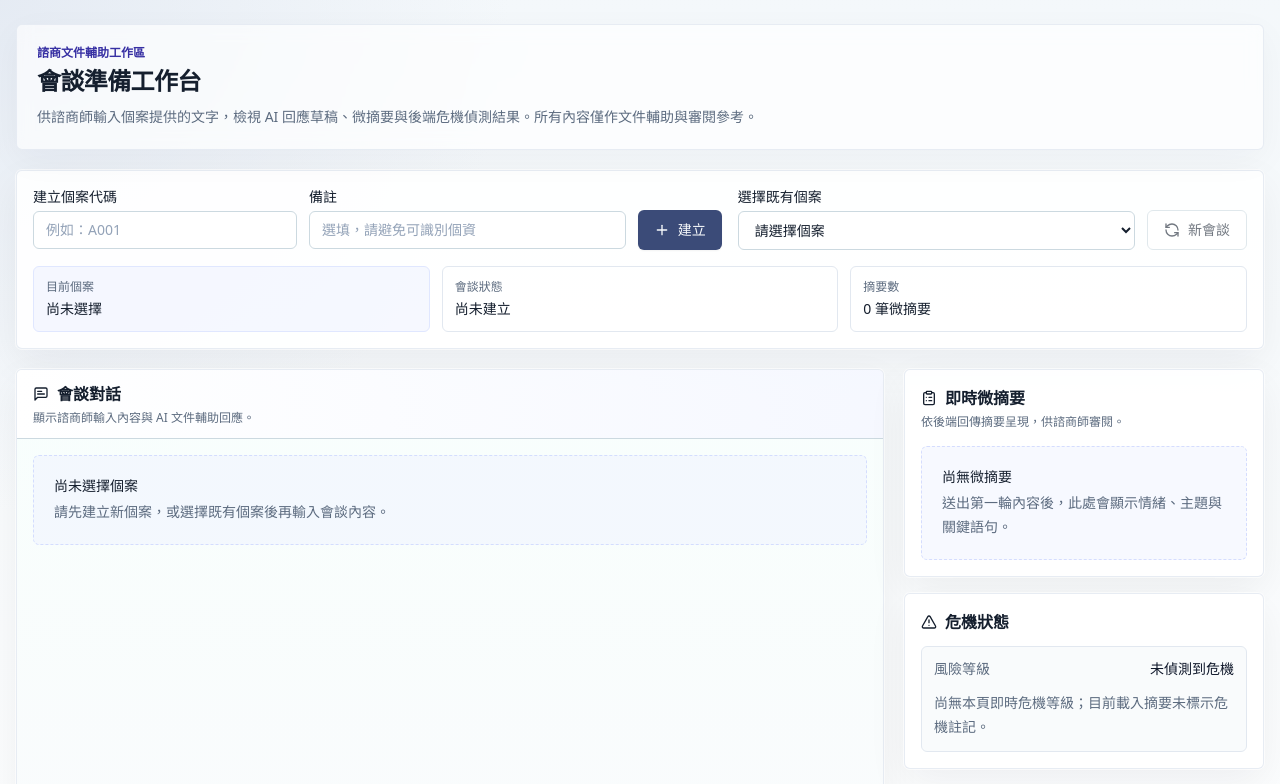
Test: ConversationPage durable session creation behavior › create-case partial session failure keeps the new case without a fake local session
This screenshot has width=1280, height=784.
Type "NEW_CASE_WITHOUT_SESSION" into the field labelled "建立個案代碼" at point(165, 230), box [33,211,297,249]
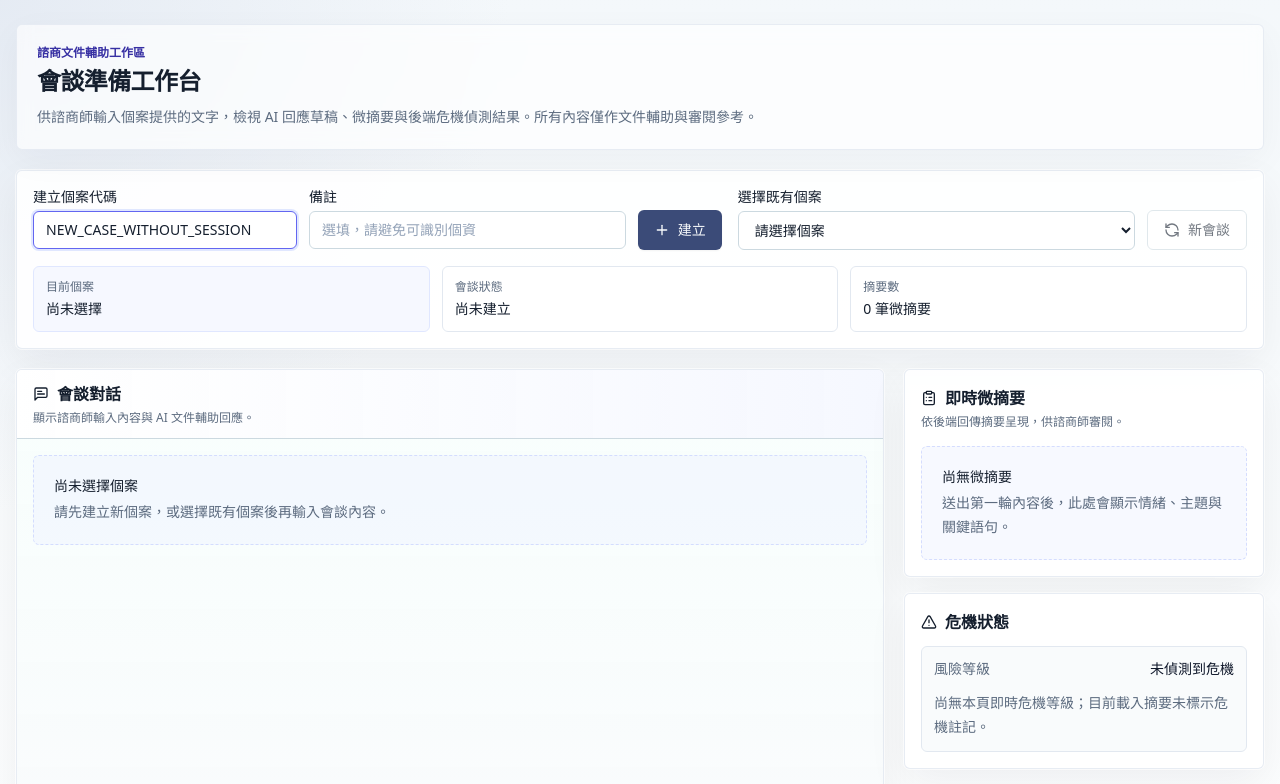
Submit the form, box [33,187,722,250]
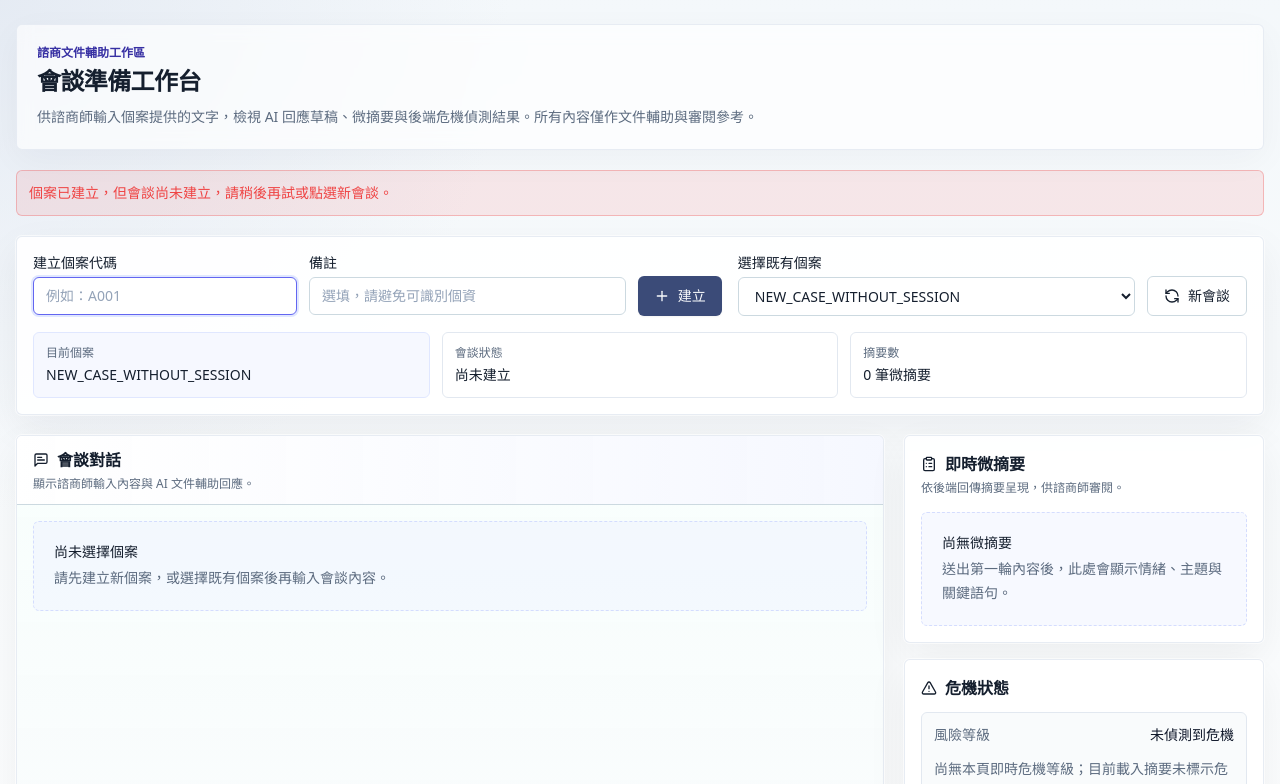
Check: the text "個案已建立，但會談尚未建立，請稍後再試或點選新會談。" is shown, box [16,170,1264,216]
